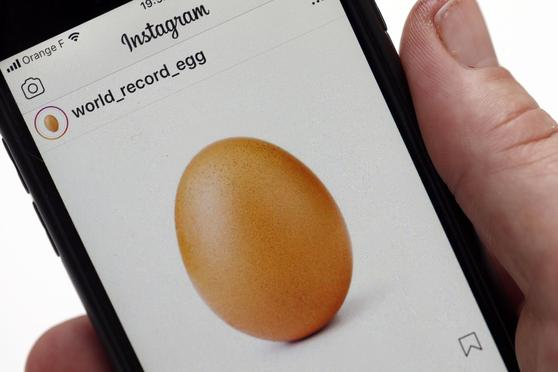egg: (172, 137, 355, 344)
